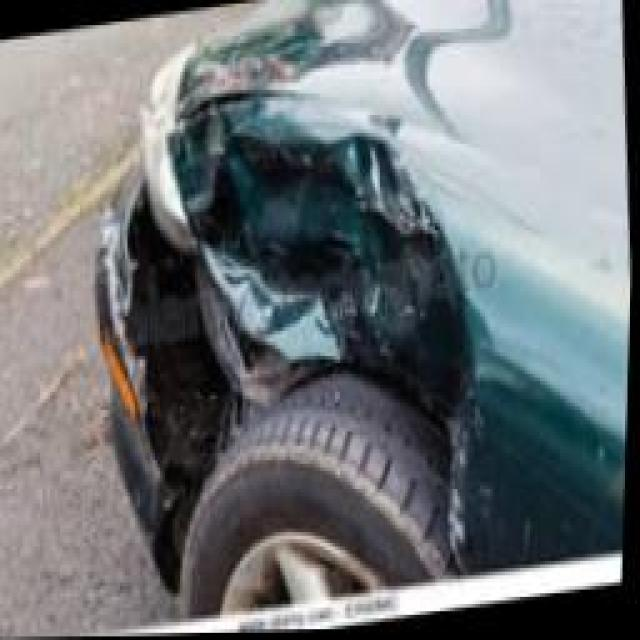Bumper: (91, 163, 247, 572)
Fender: (169, 112, 548, 560)
